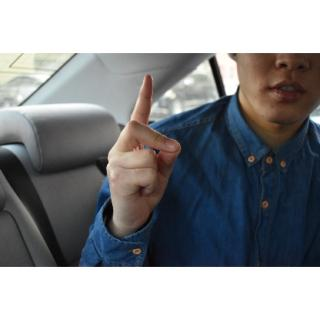TAA: (102, 72, 188, 235)
